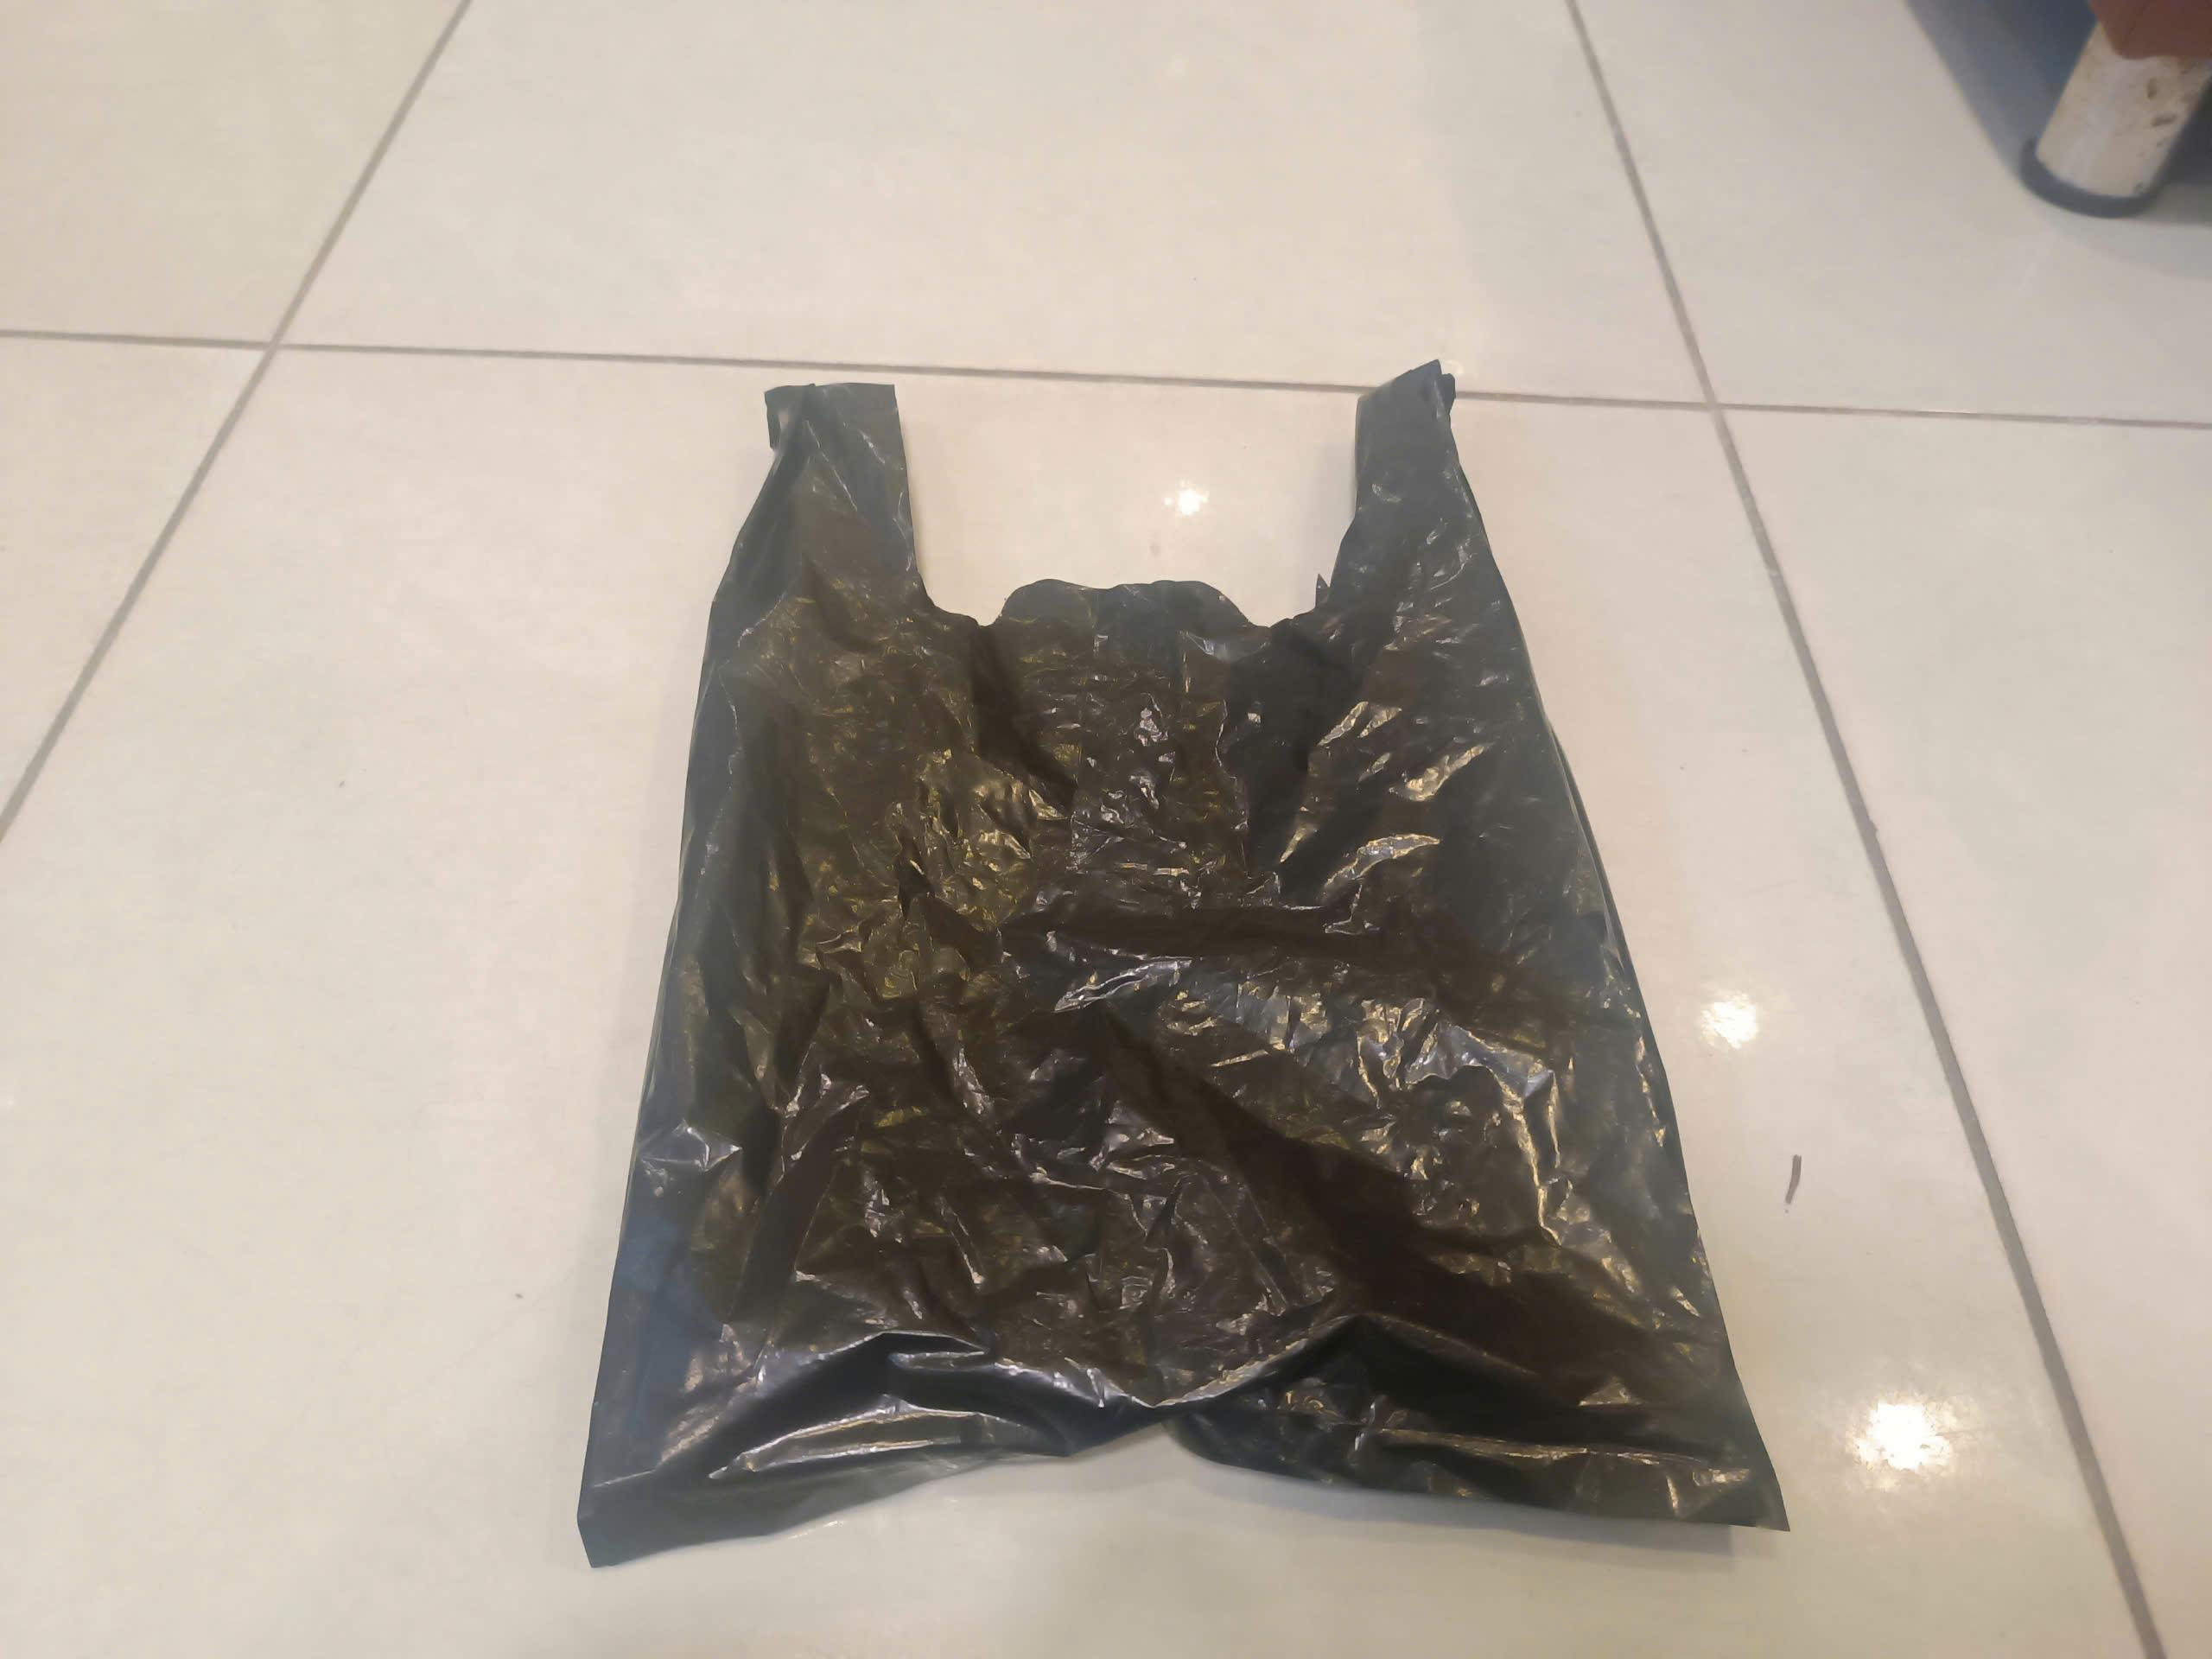Vo co: (582, 357, 1789, 1570)
